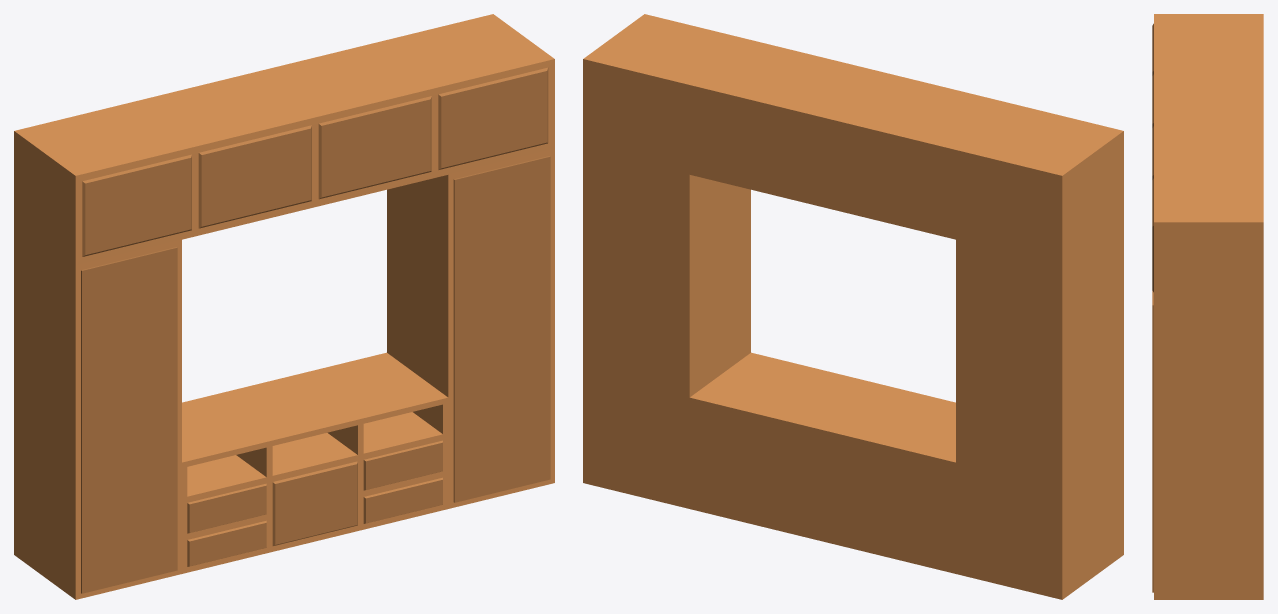
Rendered from MeubleTV2.fbx.
The picture shows the model from 3 angles, left to right: view 1: azimuth 30°, elevation 25°; view 2: azimuth 150°, elevation 25°; view 3: azimuth 270°, elevation 25°; orthographic projection. The views are drawn at different scales.
Visible parts, largest first — view 1: MeublesTV2; view 2: MeublesTV2; view 3: MeublesTV2.
Part boxes in pixels (<box>): MeublesTV2: <box>14,14,554,599</box>; MeublesTV2: <box>583,14,1123,599</box>; MeublesTV2: <box>1152,14,1263,599</box>.
Bounding box in the file's own units: 720 × 609 × 163.
